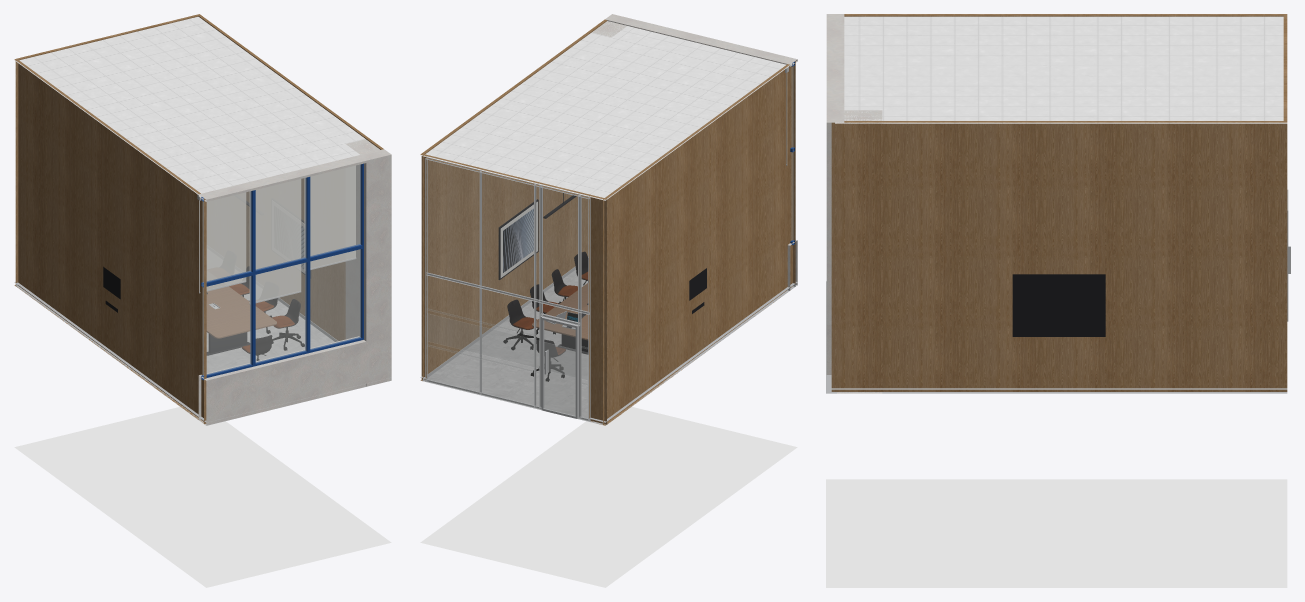
The model's file is sala4.glb.
The picture shows the model from 3 angles, left to right: view 1: azimuth 30°, elevation 25°; view 2: azimuth 150°, elevation 25°; view 3: azimuth 270°, elevation 25°; orthographic projection. The views are drawn at different scales.
Parts seen in each view (by area): view 1: BAKE_statico, Vetri.001, BAKE_sedie; view 2: BAKE_statico, Vetri.001, Fasce satinate.001, Anta04, BAKE_sedie, Stampa sala p5.jpg; view 3: BAKE_statico.
Boxes of the visible parts, x1,y1,x2,y2 form: BAKE_statico: (14, 14, 391, 587); Vetri.001: (202, 164, 360, 377); BAKE_sedie: (229, 266, 304, 360); BAKE_statico: (420, 14, 797, 587); Vetri.001: (426, 64, 793, 420); Fasce satinate.001: (428, 309, 587, 384); Anta04: (541, 317, 577, 418); BAKE_sedie: (503, 251, 588, 381); Stampa sala p5.jpg: (503, 208, 533, 272); BAKE_statico: (826, 14, 1287, 587).
Bounding box in the file's own units: 4.31 × 8.62 × 7.8.
Materials: 34 (10 with a texture image).
